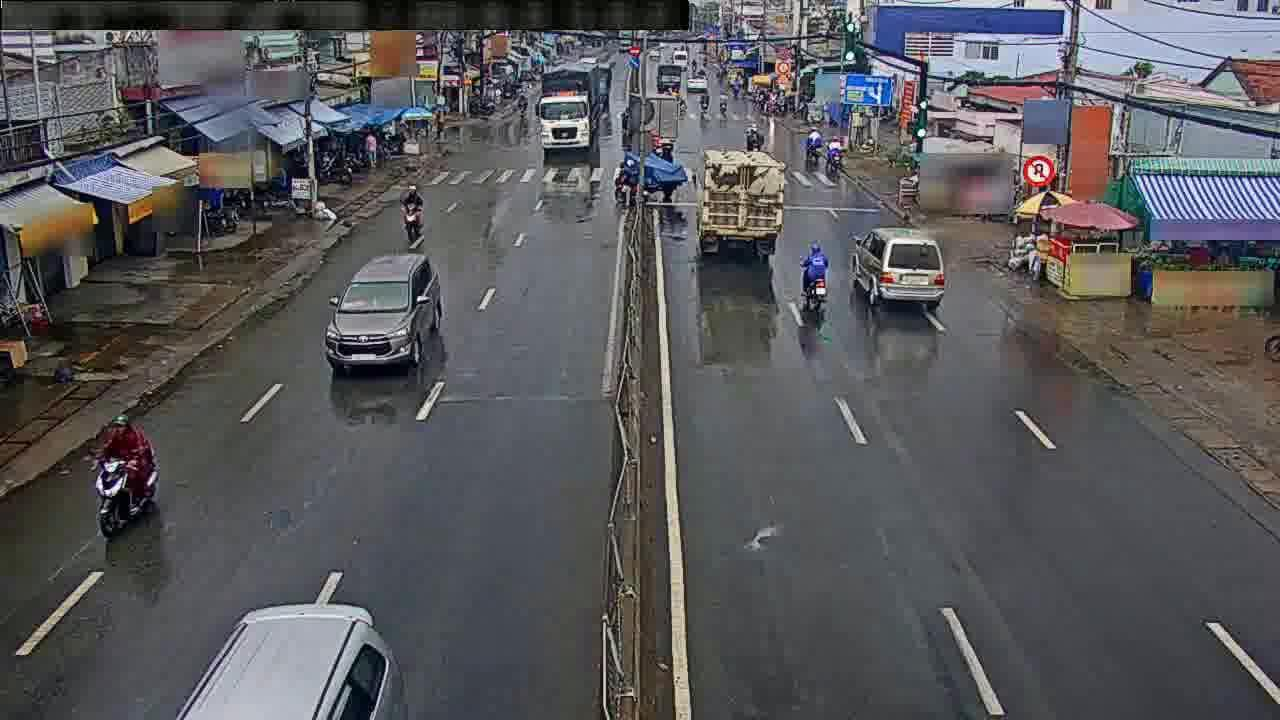8: (701, 150, 779, 260), (530, 58, 598, 151)
container: (160, 601, 412, 720), (331, 249, 441, 367), (847, 222, 959, 304)
motorbike: (88, 413, 160, 536), (797, 239, 833, 314), (398, 183, 427, 240), (741, 122, 767, 155), (821, 135, 843, 171), (804, 124, 822, 159)
